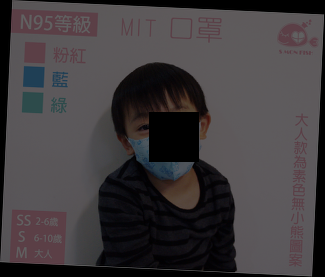with_mask: (125, 102, 202, 182)
